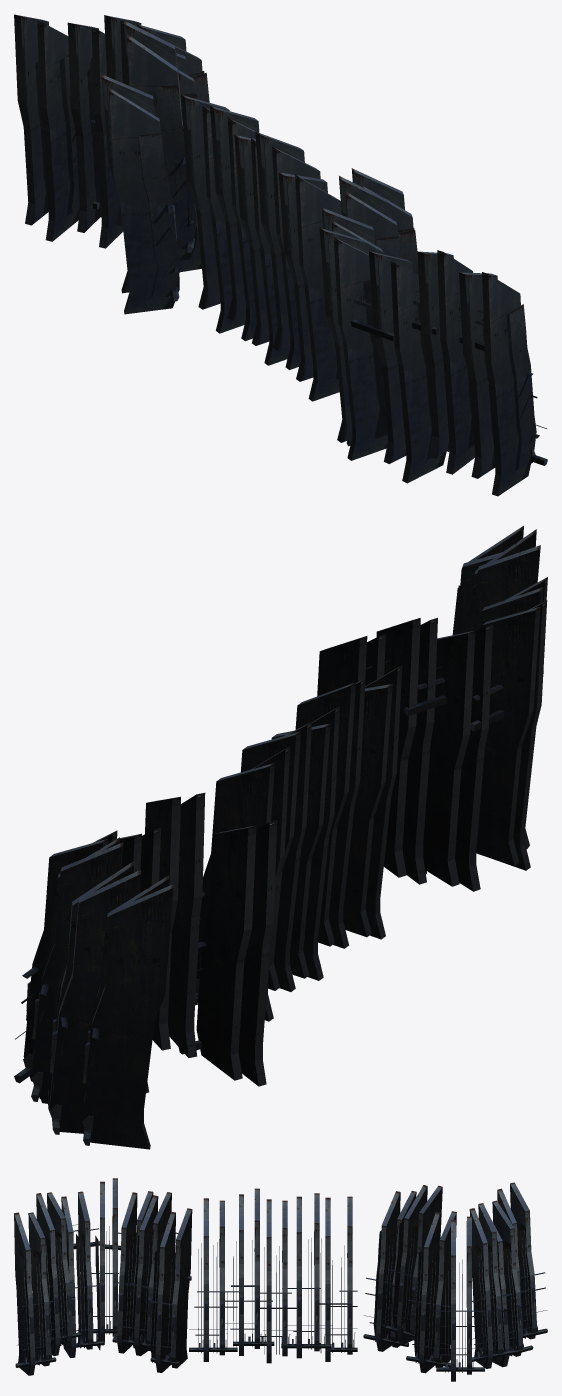
Rendered from combine_wall_clusters.glb.
3 renders of one model, top to bottom at view 1: azimuth 30°, elevation 25°; view 2: azimuth 150°, elevation 25°; view 3: azimuth 270°, elevation 25°, orthographic. The views are drawn at different scales.
Visible parts, largest first — view 1: CombineInnerwallCluster1024_002a_reference.smd_1, CombineInnerwallCluster1024_003a_reference.smd_2, CombineInnerwallCluster1024_001a_reference.smd_0; view 2: CombineInnerwallCluster1024_003a_reference.smd_2, CombineInnerwallCluster1024_002a_reference.smd_1, CombineInnerwallCluster1024_001a_reference.smd_0; view 3: CombineInnerwallCluster1024_002a_reference.smd_1, CombineInnerwallCluster1024_003a_reference.smd_2, CombineInnerwallCluster1024_001a_reference.smd_0.
Part boxes in pixels (x1,y1,x2,y2): CombineInnerwallCluster1024_002a_reference.smd_1: (319, 168, 547, 496); CombineInnerwallCluster1024_003a_reference.smd_2: (14, 14, 209, 314); CombineInnerwallCluster1024_001a_reference.smd_0: (181, 95, 341, 401); CombineInnerwallCluster1024_003a_reference.smd_2: (14, 792, 277, 1149); CombineInnerwallCluster1024_002a_reference.smd_1: (317, 525, 547, 891); CombineInnerwallCluster1024_001a_reference.smd_0: (195, 665, 402, 1021); CombineInnerwallCluster1024_002a_reference.smd_1: (14, 1178, 192, 1375); CombineInnerwallCluster1024_003a_reference.smd_2: (363, 1182, 547, 1381); CombineInnerwallCluster1024_001a_reference.smd_0: (189, 1188, 357, 1363).
Size of the model in its own units: 13.75 by 21.39 by 61.8.
1 material, 1 textured.
